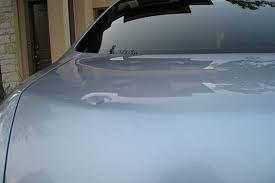bonnet-dent: (11, 66, 274, 182)
